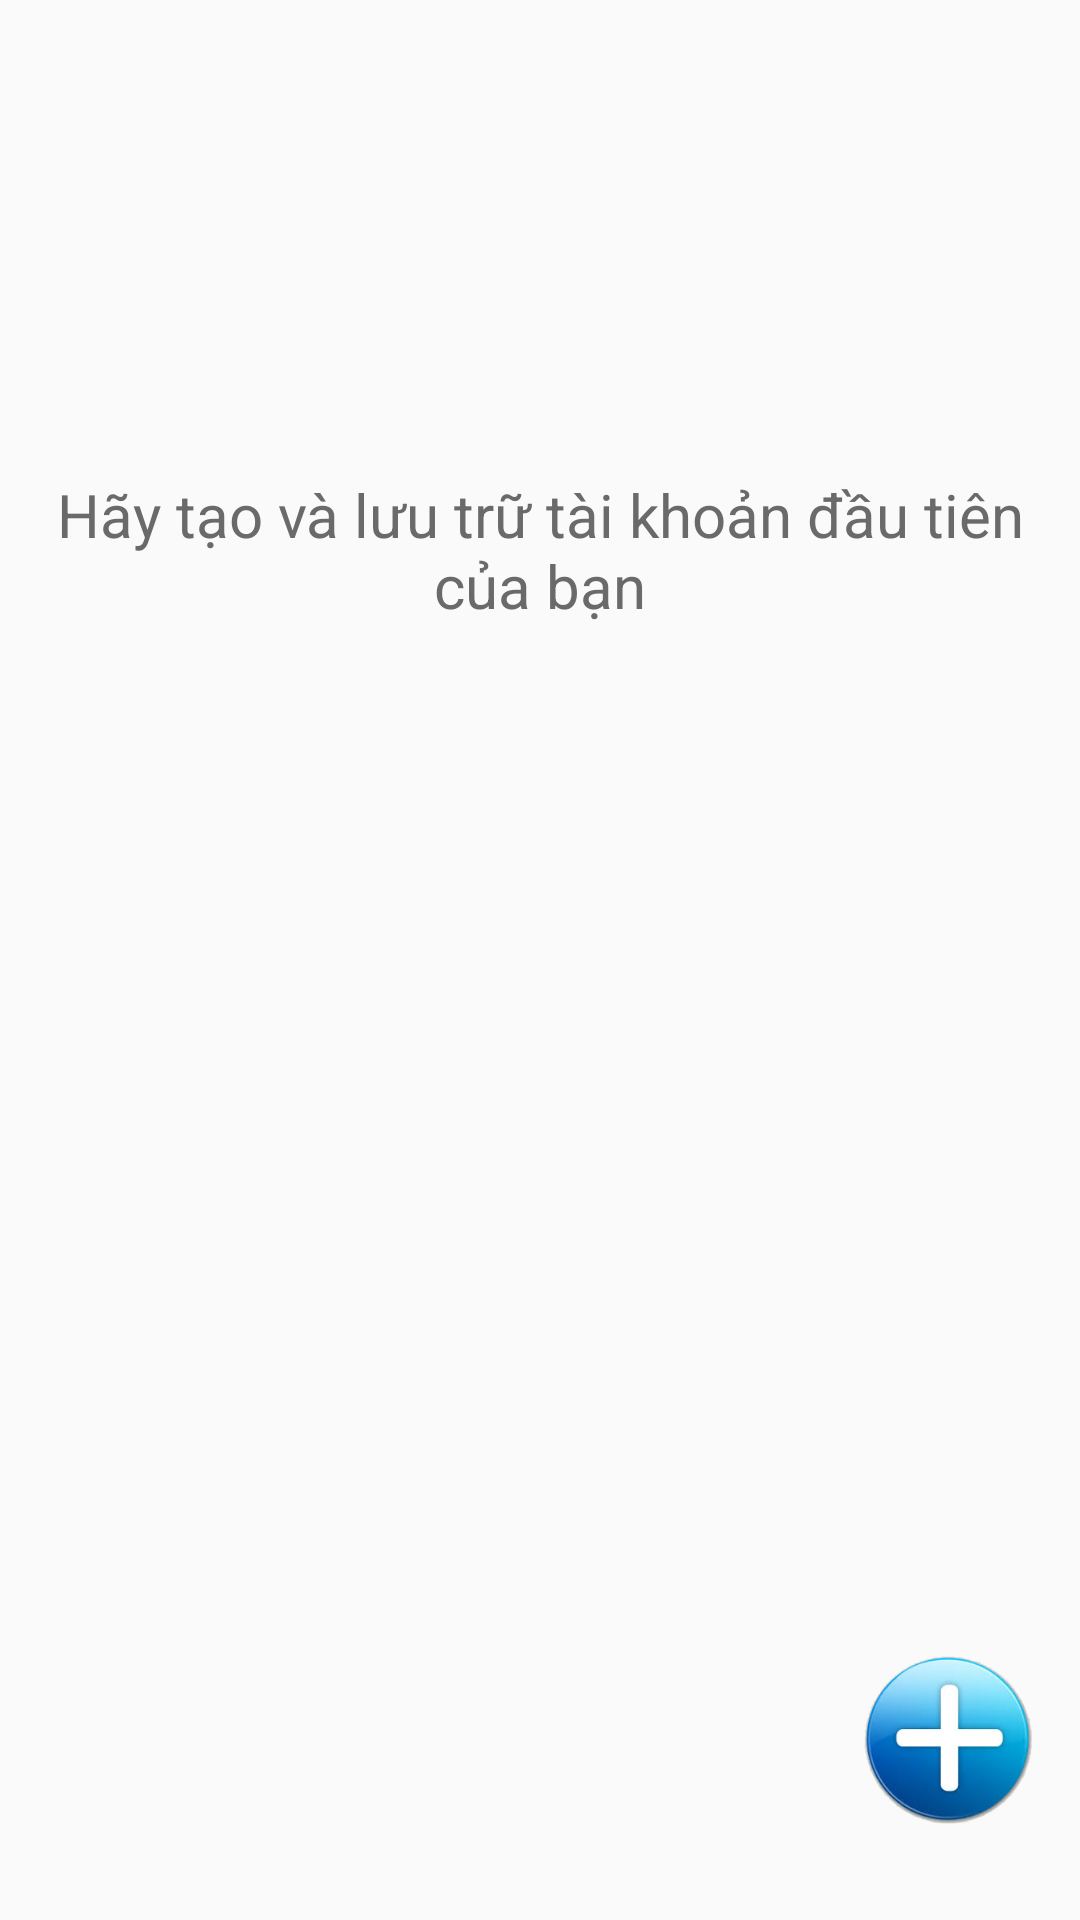

Icon click points for this 1080 x 1920 phone screenshot, format (x=x, y=y):
add: (x=948, y=1740)
